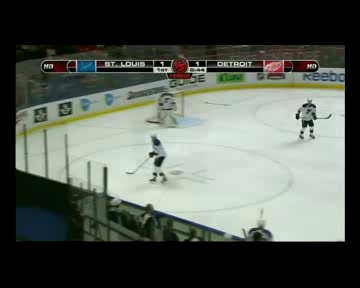normal: (292, 94, 327, 141), (143, 131, 169, 186)
